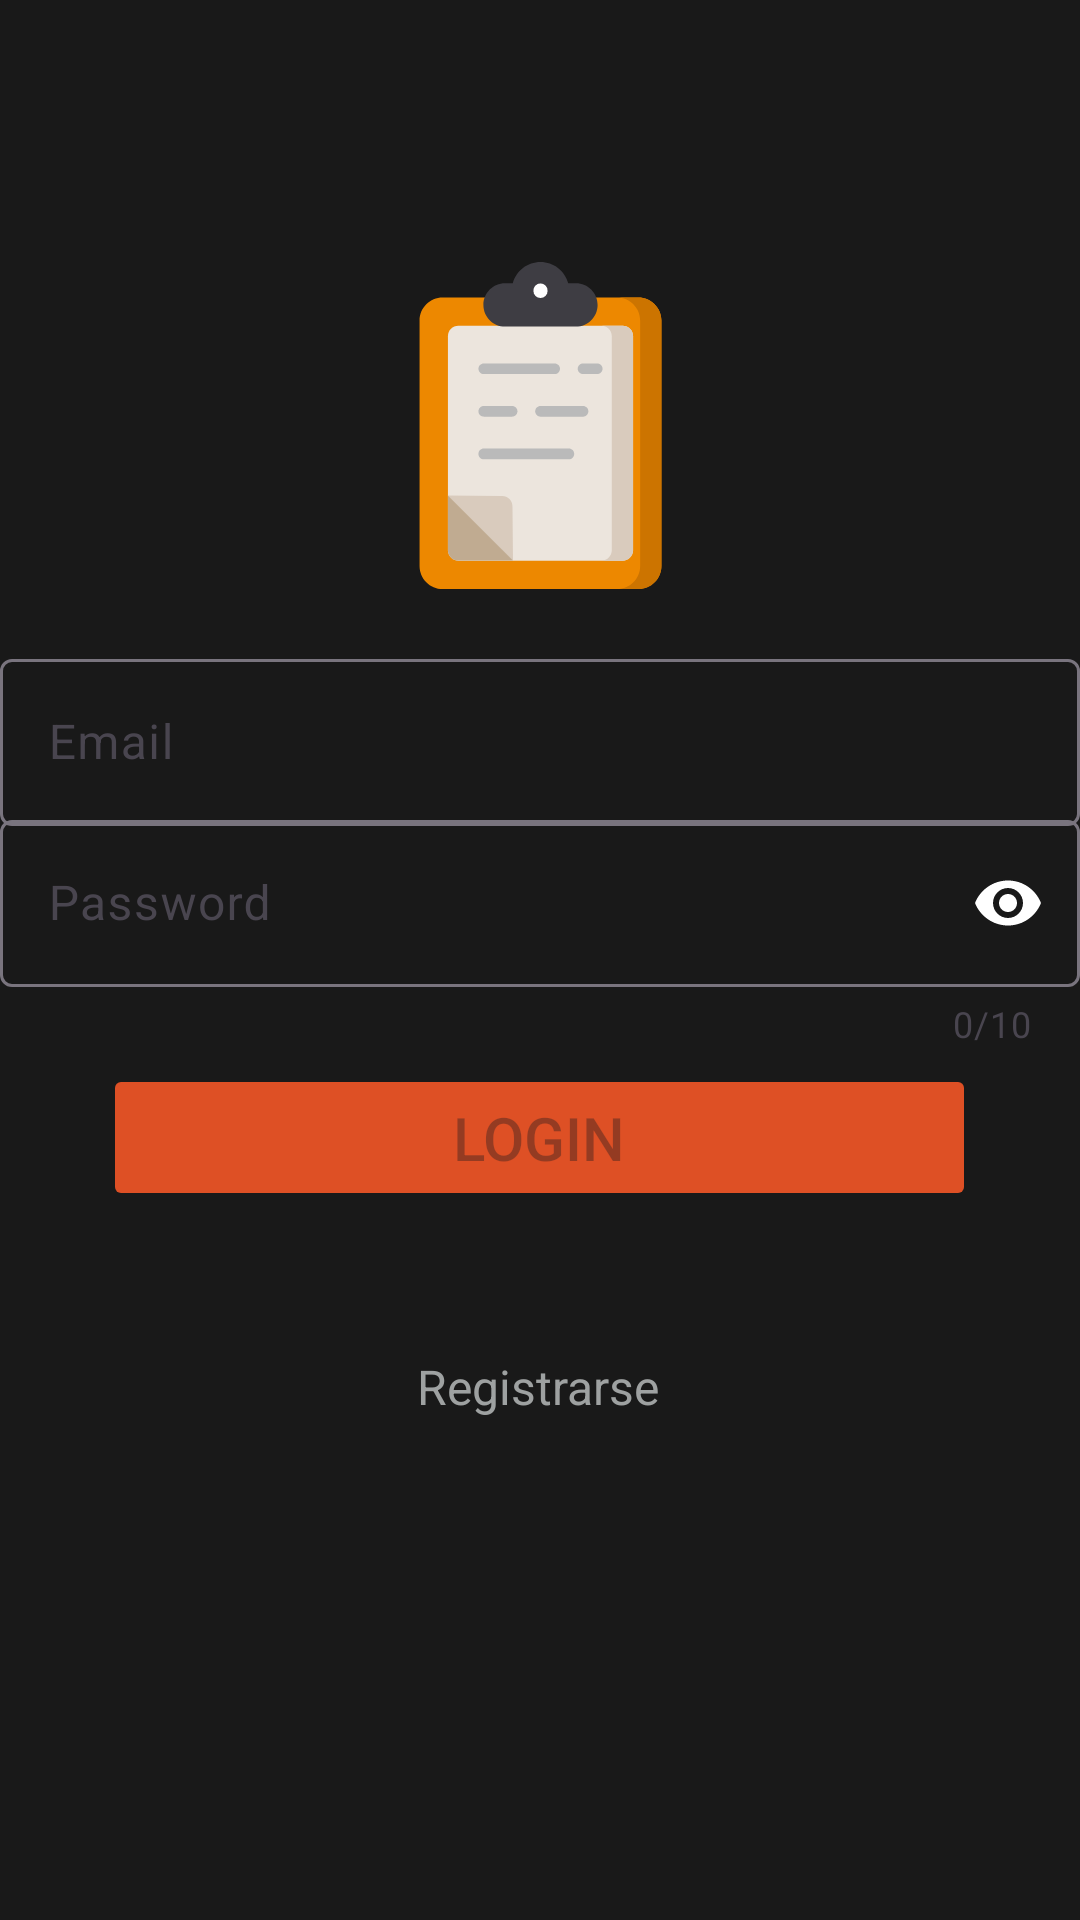

Where to tap for icons on this 1080px x 1920px app screen, as (x,y):
clipboard: (540,425)
